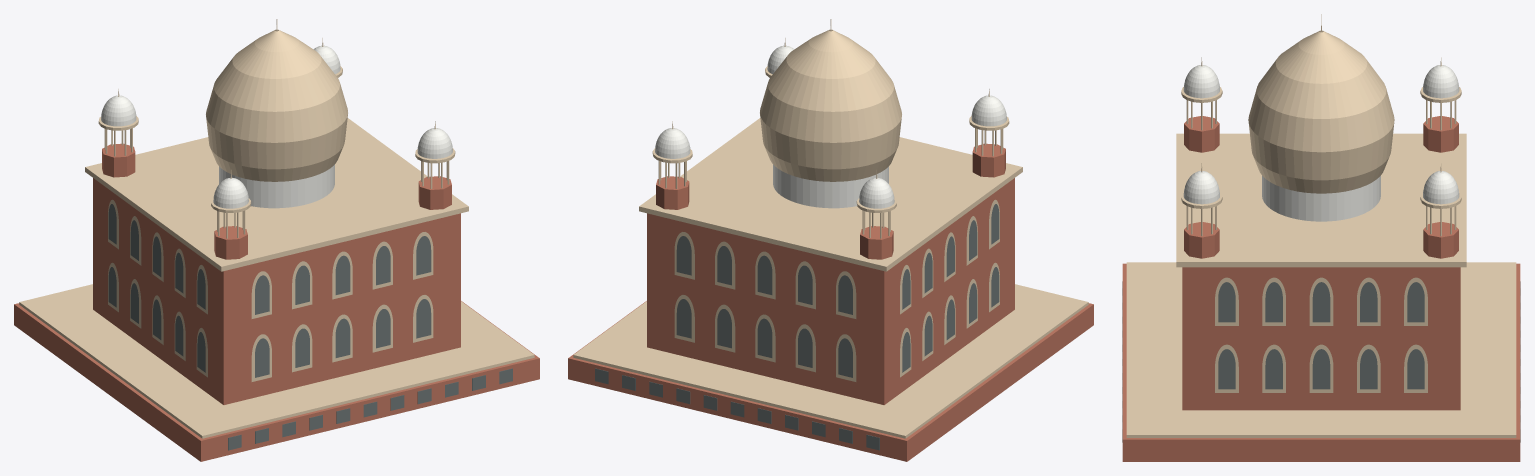
The model's file is safdarjung-tomb.glb.
3 views of the same model, side by side, from view 1: azimuth 30°, elevation 25°; view 2: azimuth 150°, elevation 25°; view 3: azimuth 270°, elevation 25° (orthographic). The views are drawn at different scales.
Parts seen in each view (by area): view 1: NCR_safdarjung-tomb; view 2: NCR_safdarjung-tomb; view 3: NCR_safdarjung-tomb.
Part boxes in pixels (x1,y1,x2,y2): NCR_safdarjung-tomb: (14,19,539,461); NCR_safdarjung-tomb: (568,19,1093,461); NCR_safdarjung-tomb: (1122,14,1520,461).
Bounding box in the file's own units: 31.46 × 30 × 30.08.
